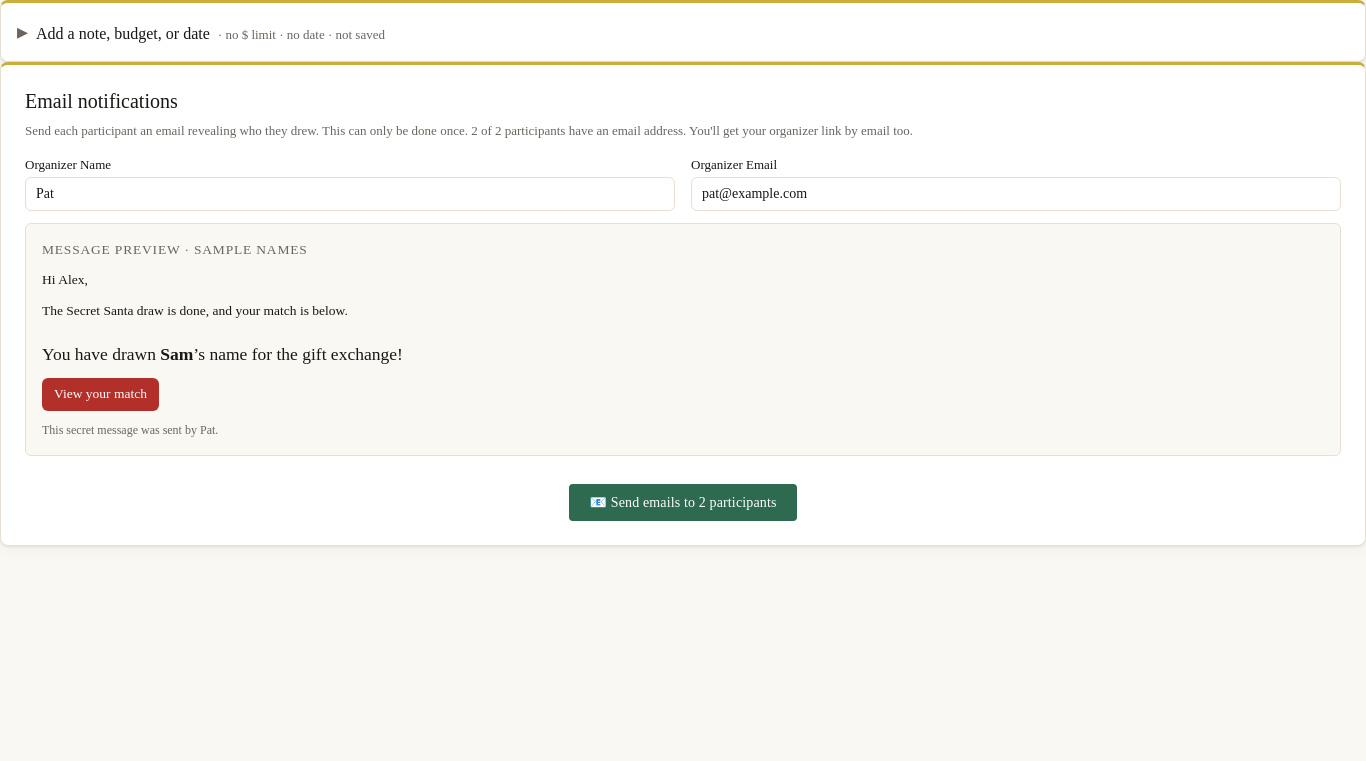
Test: details card and message preview › shows saved details as saved, and as not saved once changed
Click the button "Add a note, budget, or date" at x=123, y=34, box [25,19,1341,45]
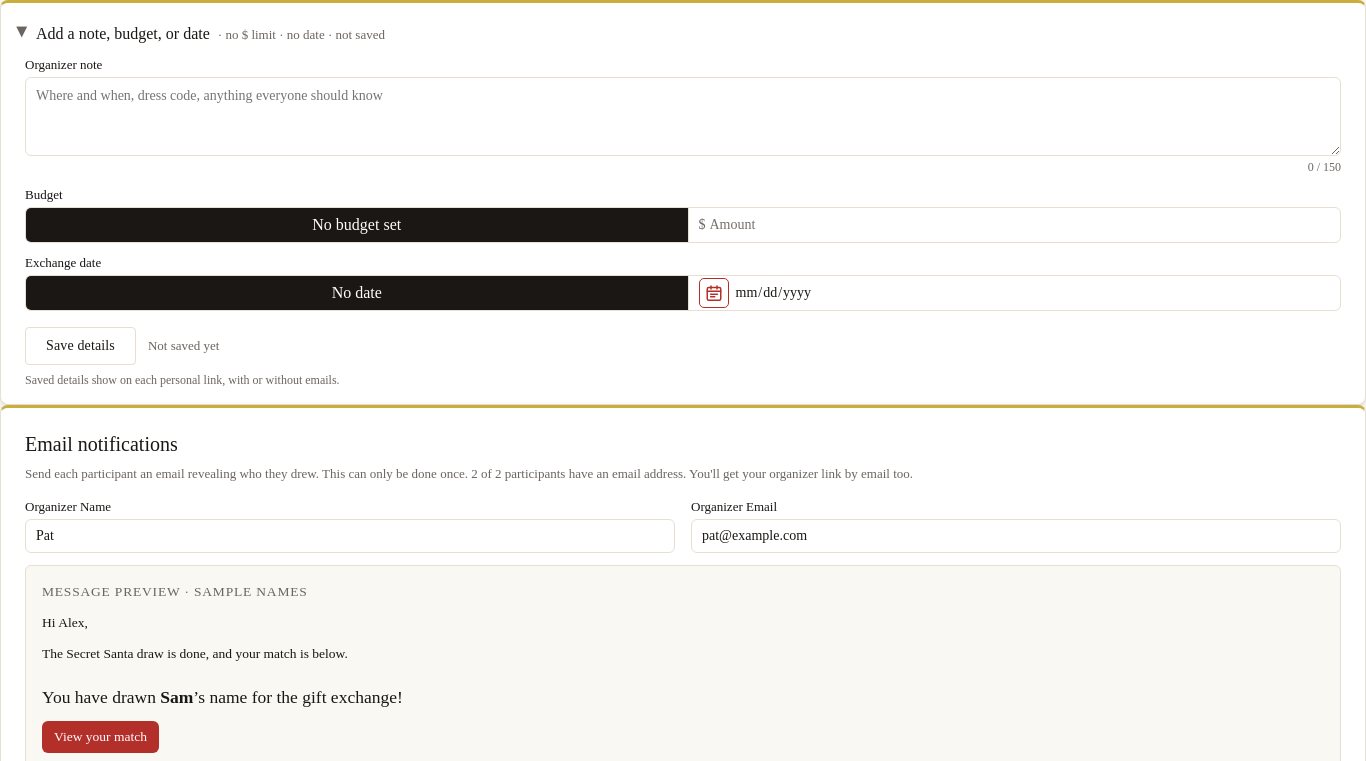
Type "30.00" into the field named "Budget in dollars" at x=1023, y=225, box [706,209,1340,241]
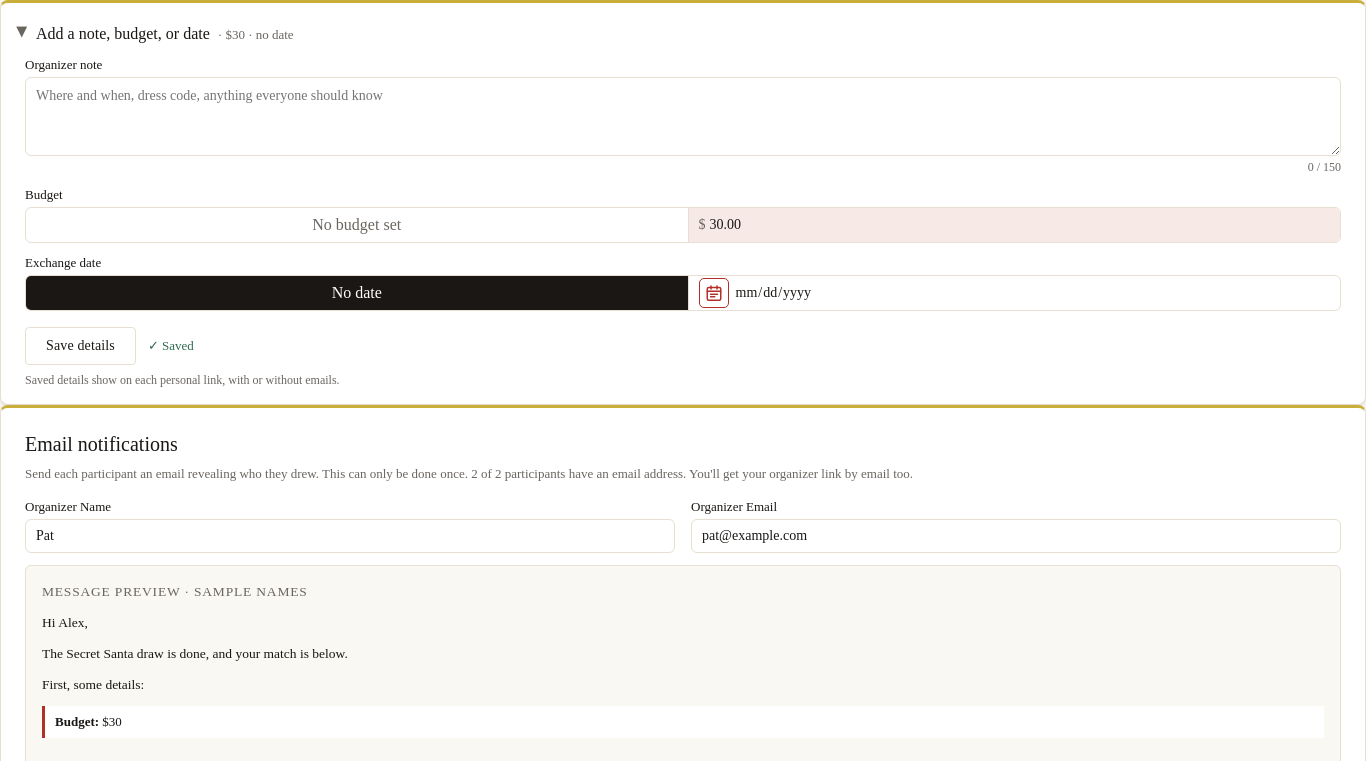
Result: the text "✓ Saved" is shown at [148,338,194,354]
Result: the button "▸ Add a note, budget, or date · $30 · no date" is shown at [25,19,1341,45]
Result: the button "Add a note, budget, or date" no longer shows "not saved"
